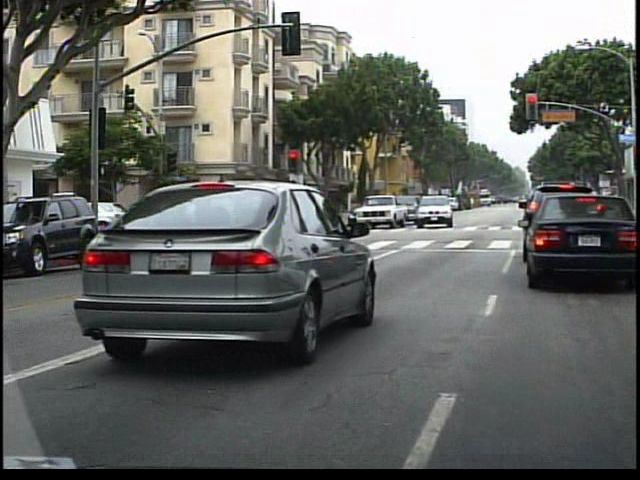person: (180, 191, 199, 237), (200, 193, 219, 234)
